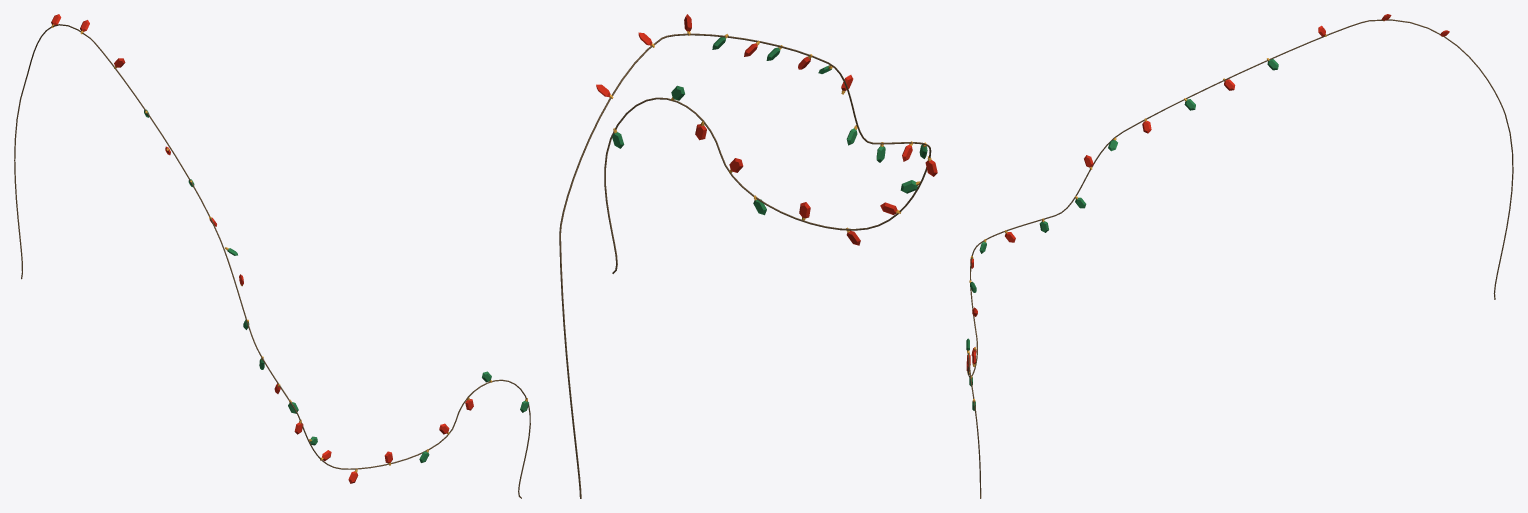
Rendered from Guirlande.fbx.
3 views of the same model, side by side, from view 1: azimuth 30°, elevation 25°; view 2: azimuth 150°, elevation 25°; view 3: azimuth 270°, elevation 25° (orthographic). The views are drawn at different scales.
Parts seen in each view (by area): view 1: BezierCurve.006; view 2: BezierCurve.006; view 3: BezierCurve.006.
Boxes of the visible parts, x1=… form: BezierCurve.006: x1=14, y1=24, x2=530, y2=498; BezierCurve.006: x1=559, y1=33, x2=931, y2=498; BezierCurve.006: x1=967, y1=19, x2=1513, y2=498.
Size of the model in its own units: 2.17 by 3.22 by 4.25.
